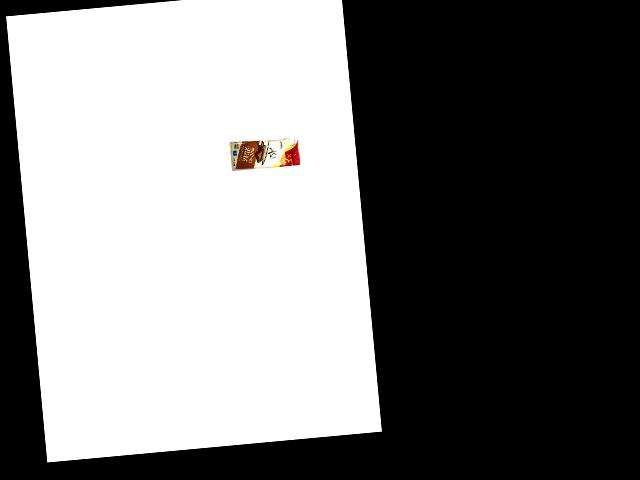chocolate: (230, 134, 302, 173)
